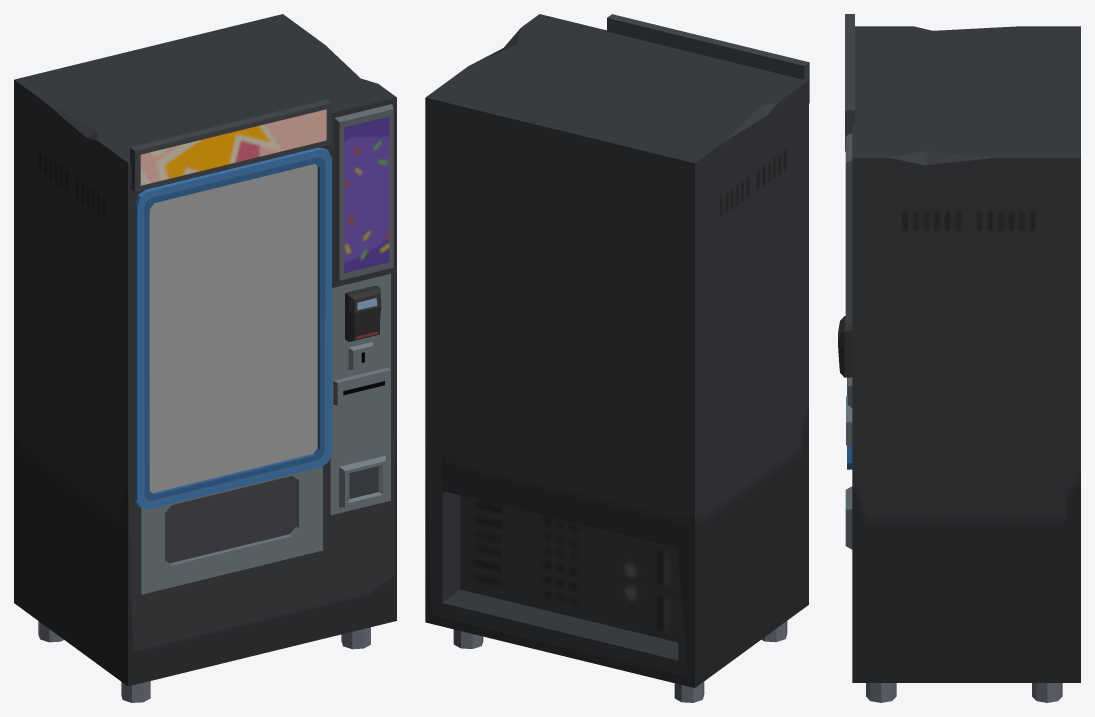
The model's file is SM_Prop_Vending_Machine_01.fbx.
3 renders of one model, left to right at view 1: azimuth 30°, elevation 25°; view 2: azimuth 150°, elevation 25°; view 3: azimuth 270°, elevation 25°, orthographic.
Parts seen in each view (by area): view 1: SM_Prop_Vending_Machine_01; view 2: SM_Prop_Vending_Machine_01; view 3: SM_Prop_Vending_Machine_01.
Part boxes in pixels (x1,y1,x2,y2): SM_Prop_Vending_Machine_01: (14,14,396,702); SM_Prop_Vending_Machine_01: (425,14,809,702); SM_Prop_Vending_Machine_01: (838,14,1080,702).
Bounding box in the file's own units: 107 × 215 × 83.84.
